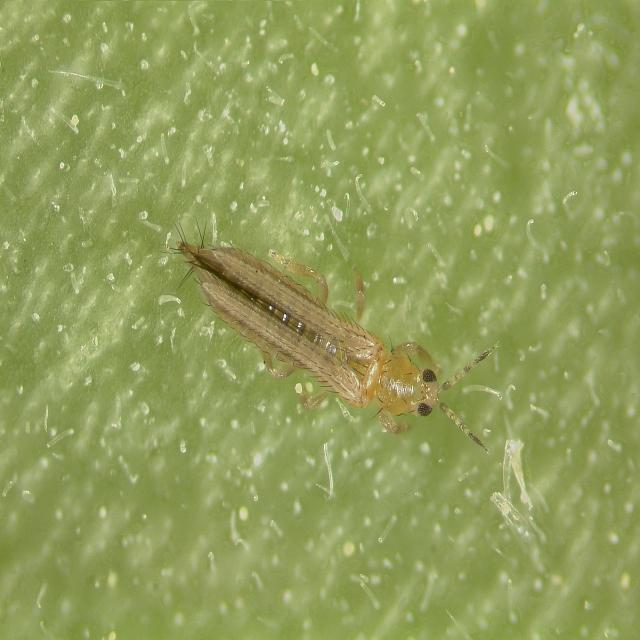thrip: (155, 194, 498, 486)
